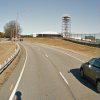Car: (73, 51, 100, 92)
